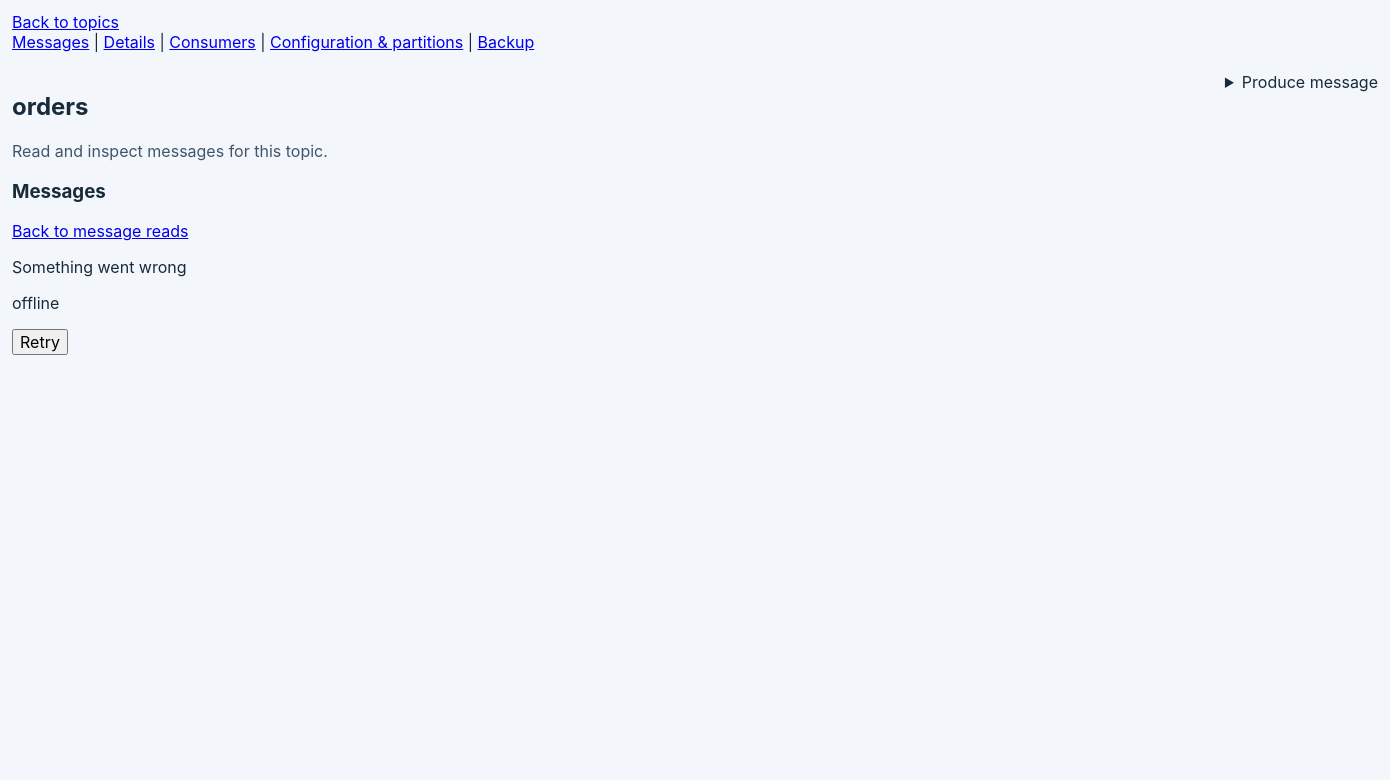
Test: TopicPage › offers retry when a linked read fails because the gateway is unavailable
What coordinates should you click on to do the following:
click the button "Retry"
I would click on:
 (40, 342)
Its box is [12,329,68,355].
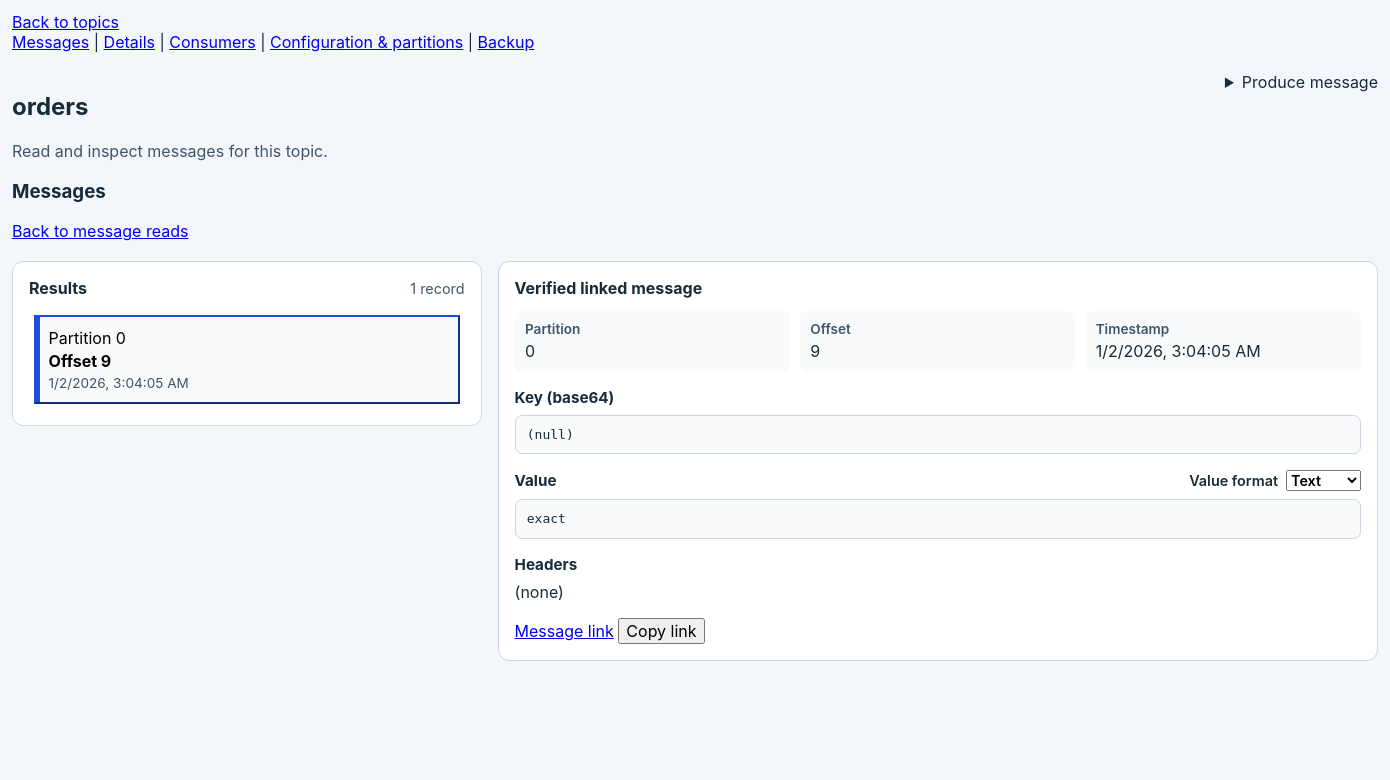
Expected: the text "exact" is shown, [515,499,1361,539]
